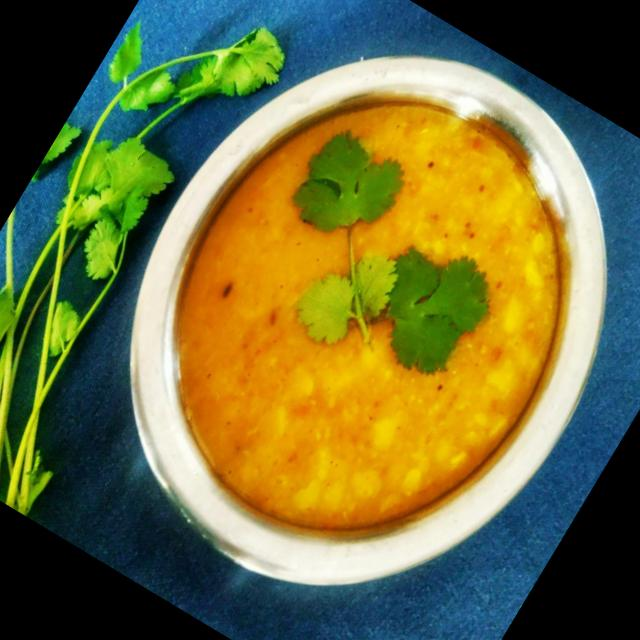dal: (83, 15, 640, 610)
